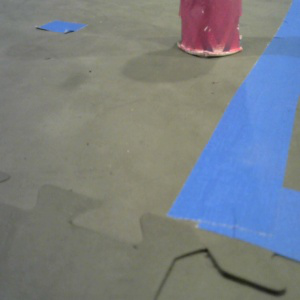right: (177, 1, 242, 57)
